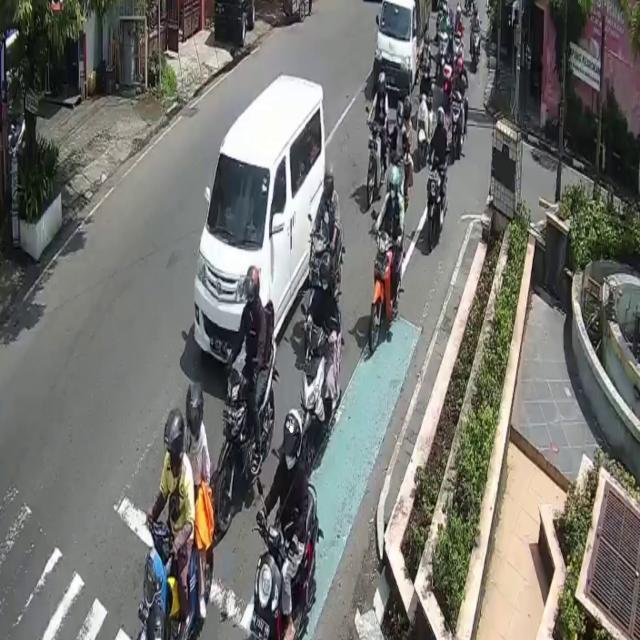bus: (215, 335, 277, 535), (247, 484, 319, 640), (141, 519, 213, 640), (302, 307, 343, 457), (369, 230, 394, 349), (311, 225, 343, 298), (365, 116, 383, 205), (429, 160, 441, 252)
motorcycle: (193, 73, 333, 365), (374, 0, 425, 95)
